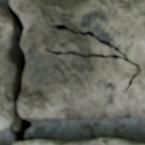brick: (13, 138, 144, 144)
broken_brick: (8, 0, 144, 122), (0, 7, 17, 131)
crack: (0, 2, 32, 142)
